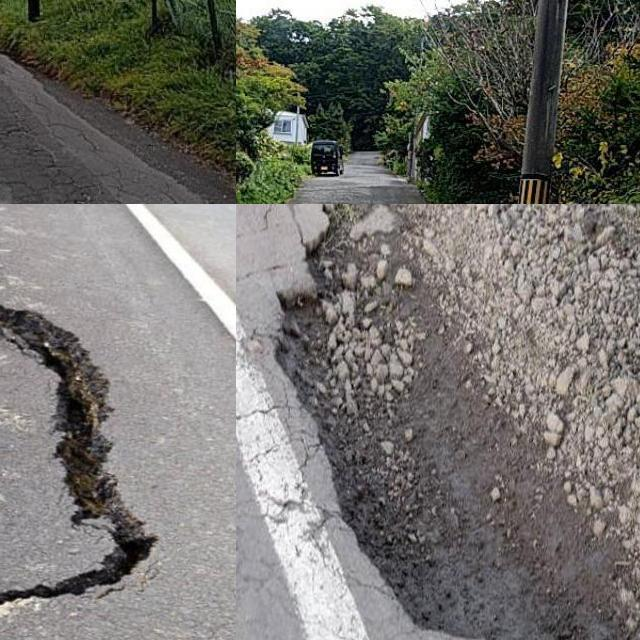Pinggir: (270, 204, 640, 640), (0, 271, 181, 640)
